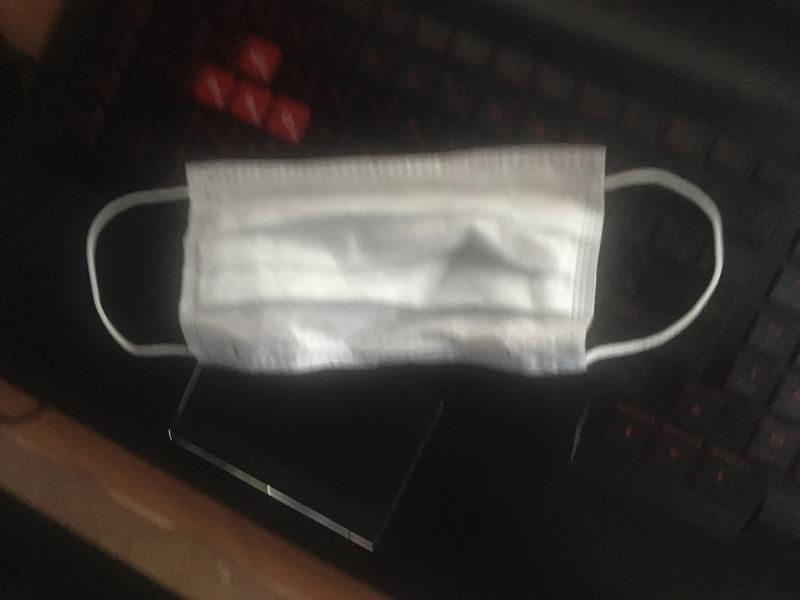medical_mask: (87, 145, 722, 374)
